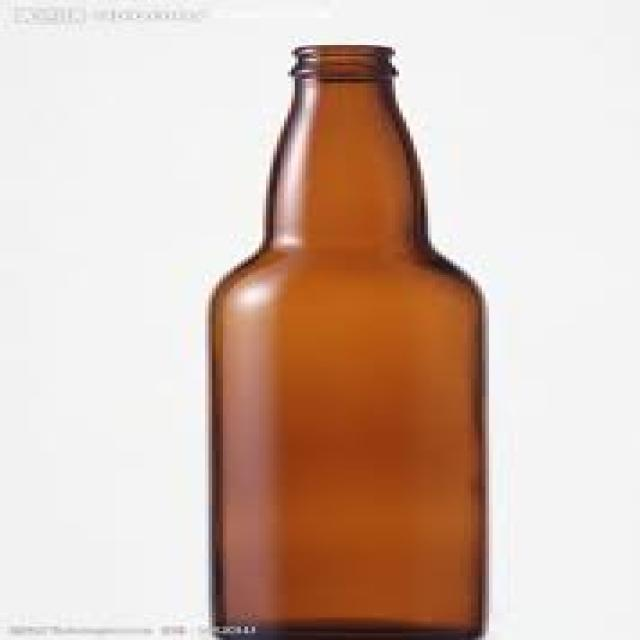glass: (205, 43, 485, 638)
